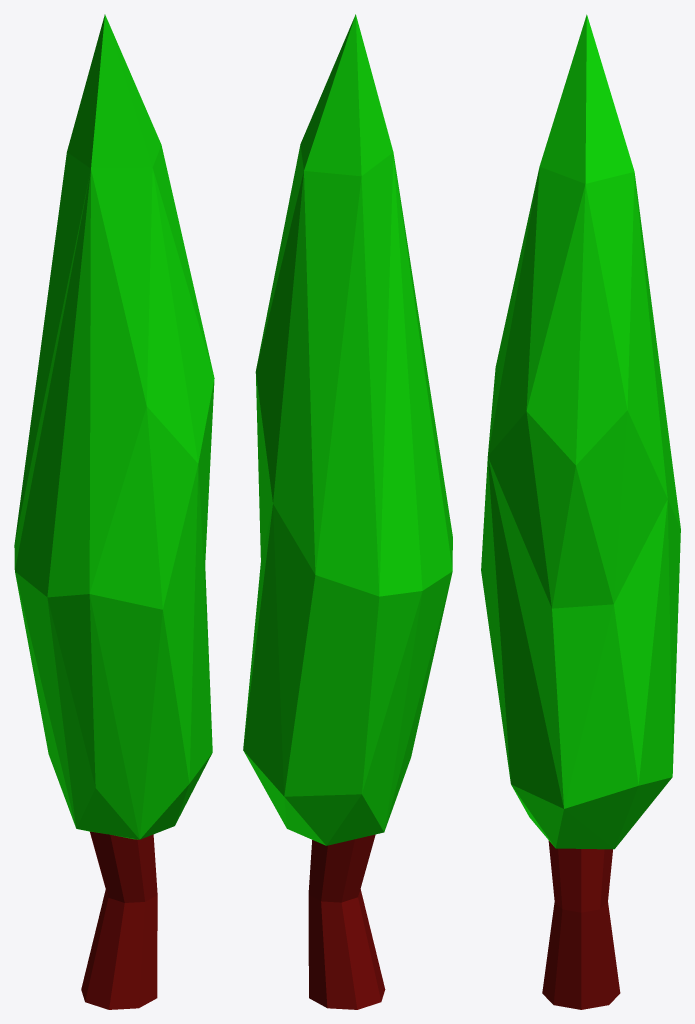
File: Cypress.fbx
The picture shows the model from 3 angles, left to right: view 1: azimuth 30°, elevation 25°; view 2: azimuth 150°, elevation 25°; view 3: azimuth 270°, elevation 25°; orthographic projection.
Parts seen in each view (by area): view 1: Top, Stump; view 2: Top, Stump; view 3: Top, Stump.
Part boxes in pixels (x1,y1,x2,y2): Top: (14, 14, 214, 839); Stump: (81, 831, 157, 1009); Top: (243, 14, 452, 845); Stump: (308, 834, 385, 1009); Top: (481, 14, 680, 849); Stump: (542, 840, 620, 1009).
Size of the model in its own units: 210 by 1128 by 210.
